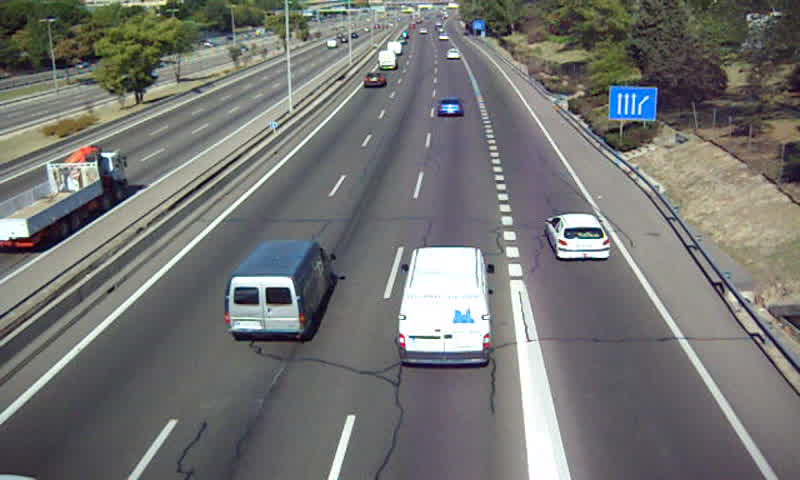car: (545, 212, 611, 262), (435, 97, 466, 116), (364, 70, 387, 88)
van: (399, 247, 491, 365), (227, 239, 334, 340), (378, 50, 398, 69)
